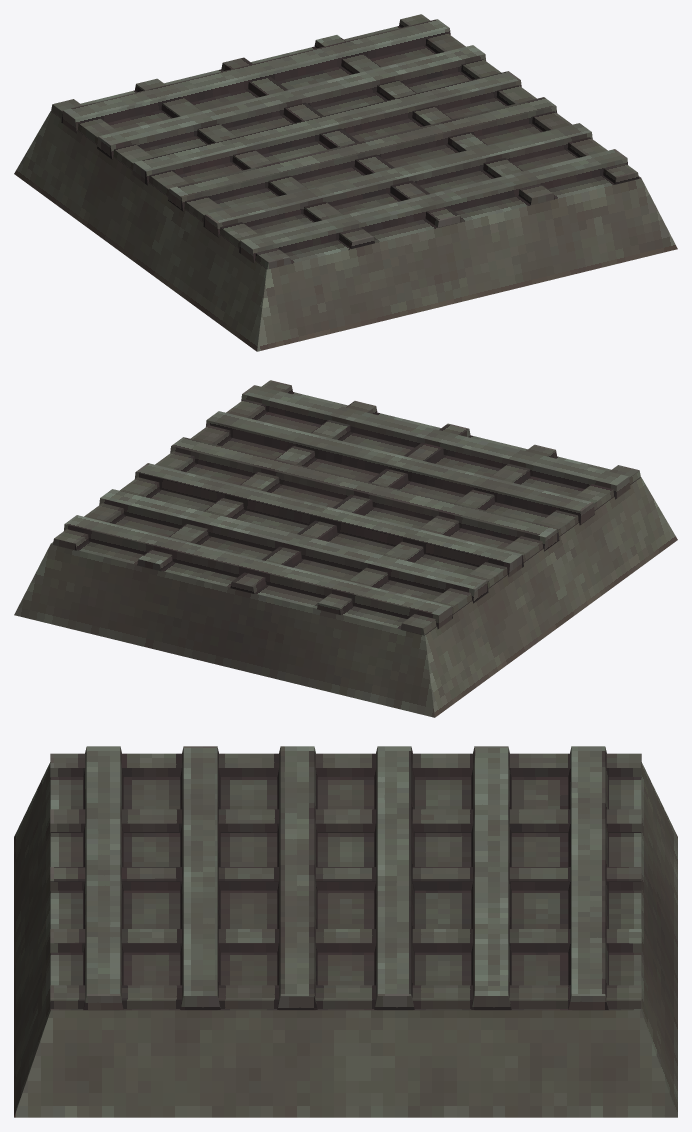
3 views of the same model, one above another, from view 1: azimuth 30°, elevation 25°; view 2: azimuth 150°, elevation 25°; view 3: azimuth 270°, elevation 25° (orthographic). The views are drawn at different scales.
Visible parts, largest first — view 1: Base; view 2: Base; view 3: Base.
Boxes of the visible parts, x1,y1,x2,y2 form: Base: (14,14,677,351); Base: (14,380,677,717); Base: (14,746,677,1117).
Bounding box in the file's own units: 3.39 × 0.5964 × 3.39.
1 material, 1 textured.
